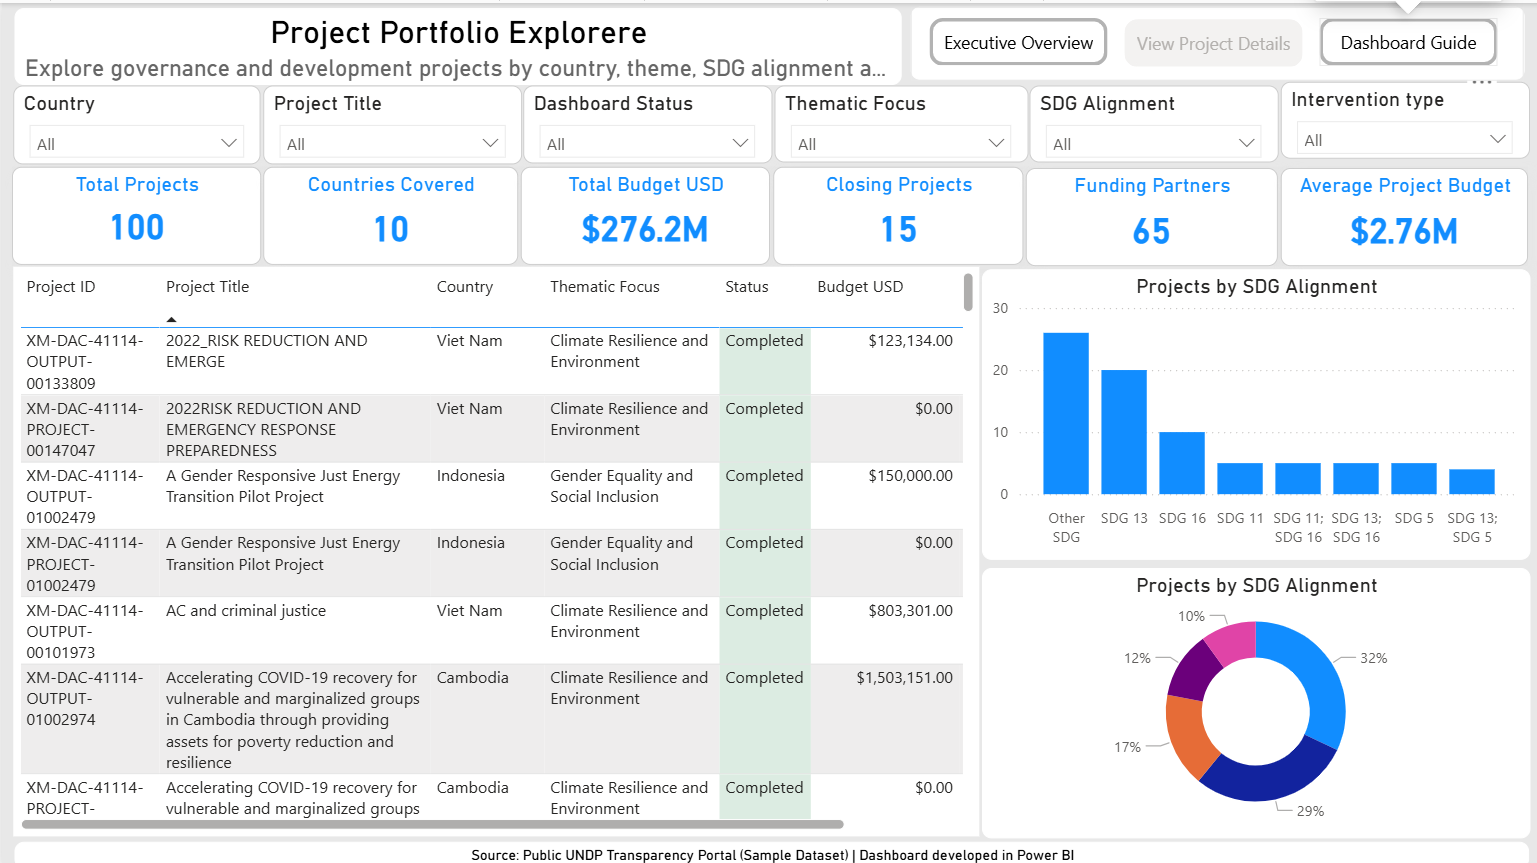

This screenshot's page, from the dashboard's own definition file:
{"tool":"powerbi","page":{"name":"Project Explorer","canvas":[1280,720],"ordinal":1},"visuals":[{"type":"shape","box":[755.1,3.4,510.4,60.6],"z":0,"group":"g4"},{"type":"textbox","title":"Project Portfolio Explorere","box":[9.9,3.7,737.8,64.3],"z":0},{"type":"slicer","title":"Intervention type","fields":{"Values":["Projects.Intervention Type"]},"box":[1062.8,65.9,206.8,64],"z":0,"group":"g2"},{"type":"columnChart","title":"Projects by SDG Alignment","fields":{"Y":["Projects.Total Projects"],"Category":["Projects.SDG Alignment"]},"box":[815.2,220.9,455.6,242],"z":0,"group":"g3"},{"type":"actionButton","title":"Executive Overview","box":[770.5,12.7,148,39.6],"z":1000,"group":"g4"},{"type":"slicer","title":"SDG Alignment","fields":{"Values":["Projects.SDG Alignment"]},"box":[854.3,68.6,206.8,64],"z":1000},{"type":"slicer","title":"Thematic Focus","fields":{"Values":["Projects.Thematic Focus"]},"box":[641.7,69,211,64],"z":1000,"group":"g2"},{"type":"card","title":"Total Projects","fields":{"Values":["Projects.Total Projects"]},"box":[8.1,136.1,207,81.3],"z":1000,"group":"g1"},{"type":"donutChart","title":"Projects by SDG Alignment","fields":{"Category":["Projects.Intervention Type"],"Y":["Projects.Total Projects"]},"box":[815,469.6,455.6,224.5],"z":1000,"group":"g3"},{"type":"actionButton","title":"Executive Overview","box":[932.9,13.9,148,39.6],"z":2000,"group":"g4"},{"type":"slicer","title":"Dashboard Status","fields":{"Values":["Projects.Dashboard Status"]},"box":[433.2,69,206.8,64.4],"z":2000,"group":"g2"},{"type":"group","id":"g1","title":"Group 1","box":[8.1,135.9,1260.5,82.6],"z":2000},{"type":"card","title":"Countries Covered","fields":{"Values":["Projects.Countries Covered"]},"box":[217.4,135.9,211.7,81.3],"z":2000,"group":"g1"},{"type":"actionButton","title":"Executive Overview","box":[1095.3,12.7,148,39.6],"z":3000,"group":"g4"},{"type":"group","id":"g2","title":"Group 3","box":[9,65.9,1260.6,68.5],"z":3000},{"type":"slicer","title":"Project Title","fields":{"Values":["Projects.Project Title"]},"box":[216.4,68.9,215.1,65.5],"z":3000,"group":"g2"},{"type":"card","title":"Total Budget USD","fields":{"Values":["Projects.Total Budget USD Display"]},"box":[431.3,135.9,207,81.3],"z":3000,"group":"g1"},{"type":"slicer","title":"Country","fields":{"Values":["Projects.Country"]},"box":[9,68.9,205.8,65.5],"z":4000,"group":"g2"},{"type":"card","title":"Closing Projects","fields":{"Values":["Projects.Closing Projects"]},"box":[640.6,135.9,208.2,81.3],"z":4000,"group":"g1"},{"type":"textbox","title":"Source: Public UNDP Transparency Portal (Sample Dataset) | Dashboard developed in Power BI","box":[10.5,697.7,1259.3,22.1],"z":4000},{"type":"card","title":"Funding Partners","fields":{"Values":["Projects.Donor Funding Sources"]},"box":[851.1,137.2,209.3,81.3],"z":5000,"group":"g1"},{"type":"tableEx","fields":{"Values":["Projects.Project ID","Projects.Project Title","Projects.Country","Projects.Thematic Focus","Projects.Dashboard Status","Sum(Projects.Budget USD)","Sum(Projects.Start Year)","Sum(Projects.End Year)"]},"box":[9.3,219.8,803.5,473.3],"z":5000},{"type":"card","title":"Average Project Budget","fields":{"Values":["Projects.Average Budget"]},"box":[1062.7,137.2,205.9,81.3],"z":6000,"group":"g1"},{"type":"group","id":"g3","title":"Group 2","box":[815,220.9,455.8,473.3],"z":6000},{"type":"group","id":"g4","title":"Group 4","box":[755.1,3.4,510.4,60.6],"z":8003}]}

Visuals, with their boxes in screenshot pixels (x1, y1, x2, y2), scaled from the page's 1280x720 canvas onto the 1537x863 screenshot:
shape: select_region(907, 4, 1520, 77)
"Project Portfolio Explorere" textbox: select_region(12, 4, 898, 82)
"Intervention type" slicer: select_region(1276, 79, 1525, 156)
"Projects by SDG Alignment" columnChart: select_region(979, 265, 1526, 555)
"Executive Overview" actionButton: select_region(925, 15, 1103, 63)
"SDG Alignment" slicer: select_region(1026, 82, 1274, 159)
"Thematic Focus" slicer: select_region(771, 83, 1024, 159)
"Total Projects" card: select_region(10, 163, 258, 261)
"Projects by SDG Alignment" donutChart: select_region(979, 563, 1526, 832)
"Executive Overview" actionButton: select_region(1120, 17, 1298, 64)
"Dashboard Status" slicer: select_region(520, 83, 768, 160)
"Group 1" group: select_region(10, 163, 1523, 262)
"Countries Covered" card: select_region(261, 163, 515, 260)
"Executive Overview" actionButton: select_region(1315, 15, 1493, 63)
"Group 3" group: select_region(11, 79, 1525, 161)
"Project Title" slicer: select_region(260, 83, 518, 161)
"Total Budget USD" card: select_region(518, 163, 766, 260)
"Country" slicer: select_region(11, 83, 258, 161)
"Closing Projects" card: select_region(769, 163, 1019, 260)
"Source: Public UNDP Transparency Portal (Sample Dataset) | Dashboard developed in Power BI" textbox: select_region(13, 836, 1525, 862)
"Funding Partners" card: select_region(1022, 164, 1273, 262)
tableEx - Projects.Project ID x Projects.Project Title: select_region(11, 263, 976, 831)
"Average Project Budget" card: select_region(1276, 164, 1523, 262)
"Group 2" group: select_region(979, 265, 1526, 832)
"Group 4" group: select_region(907, 4, 1520, 77)
